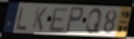8: (102, 8, 118, 35)
E: (48, 7, 70, 33)
K: (31, 6, 48, 32)
L: (15, 5, 28, 31)
P: (64, 6, 84, 34)
Q: (85, 8, 103, 35)
